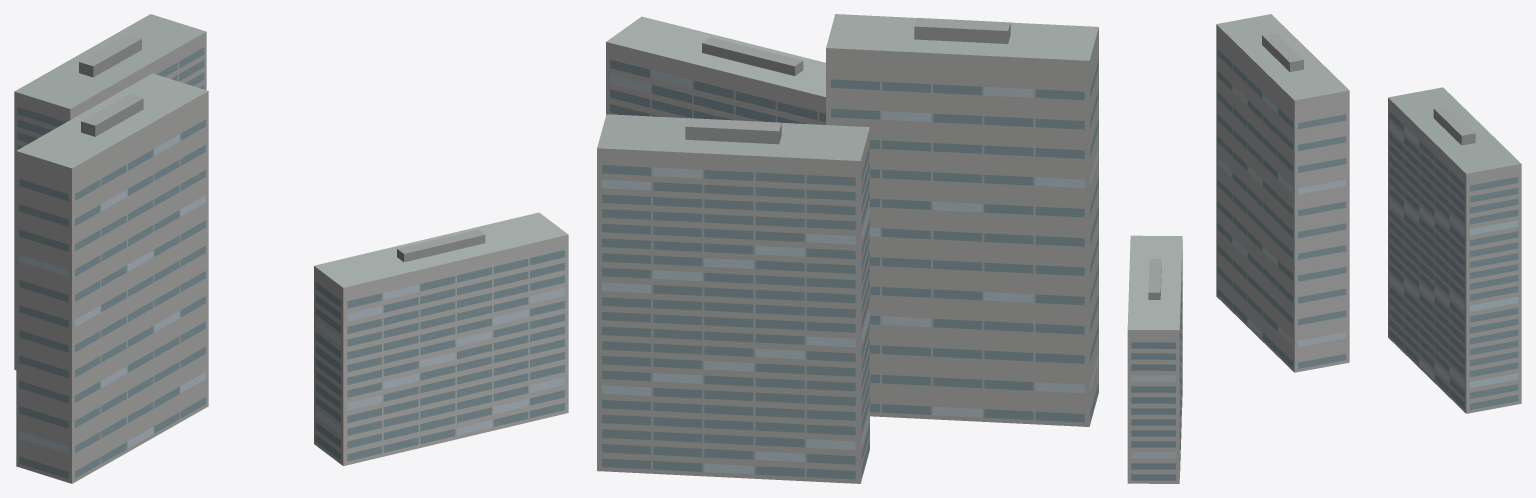
The model's file is apt-a13406204.glb.
3 views of the same model, side by side, from view 1: azimuth 30°, elevation 25°; view 2: azimuth 150°, elevation 25°; view 3: azimuth 270°, elevation 25° (orthographic). The views are drawn at different scales.
Visible parts, largest first — view 1: apt-a13406204; view 2: apt-a13406204; view 3: apt-a13406204.
Boxes of the visible parts, x1,y1,x2,y2 form: apt-a13406204: (14, 14, 568, 483); apt-a13406204: (597, 14, 1098, 483); apt-a13406204: (1127, 14, 1521, 483).
Bounding box in the file's own units: 105 × 70 × 88.69.
